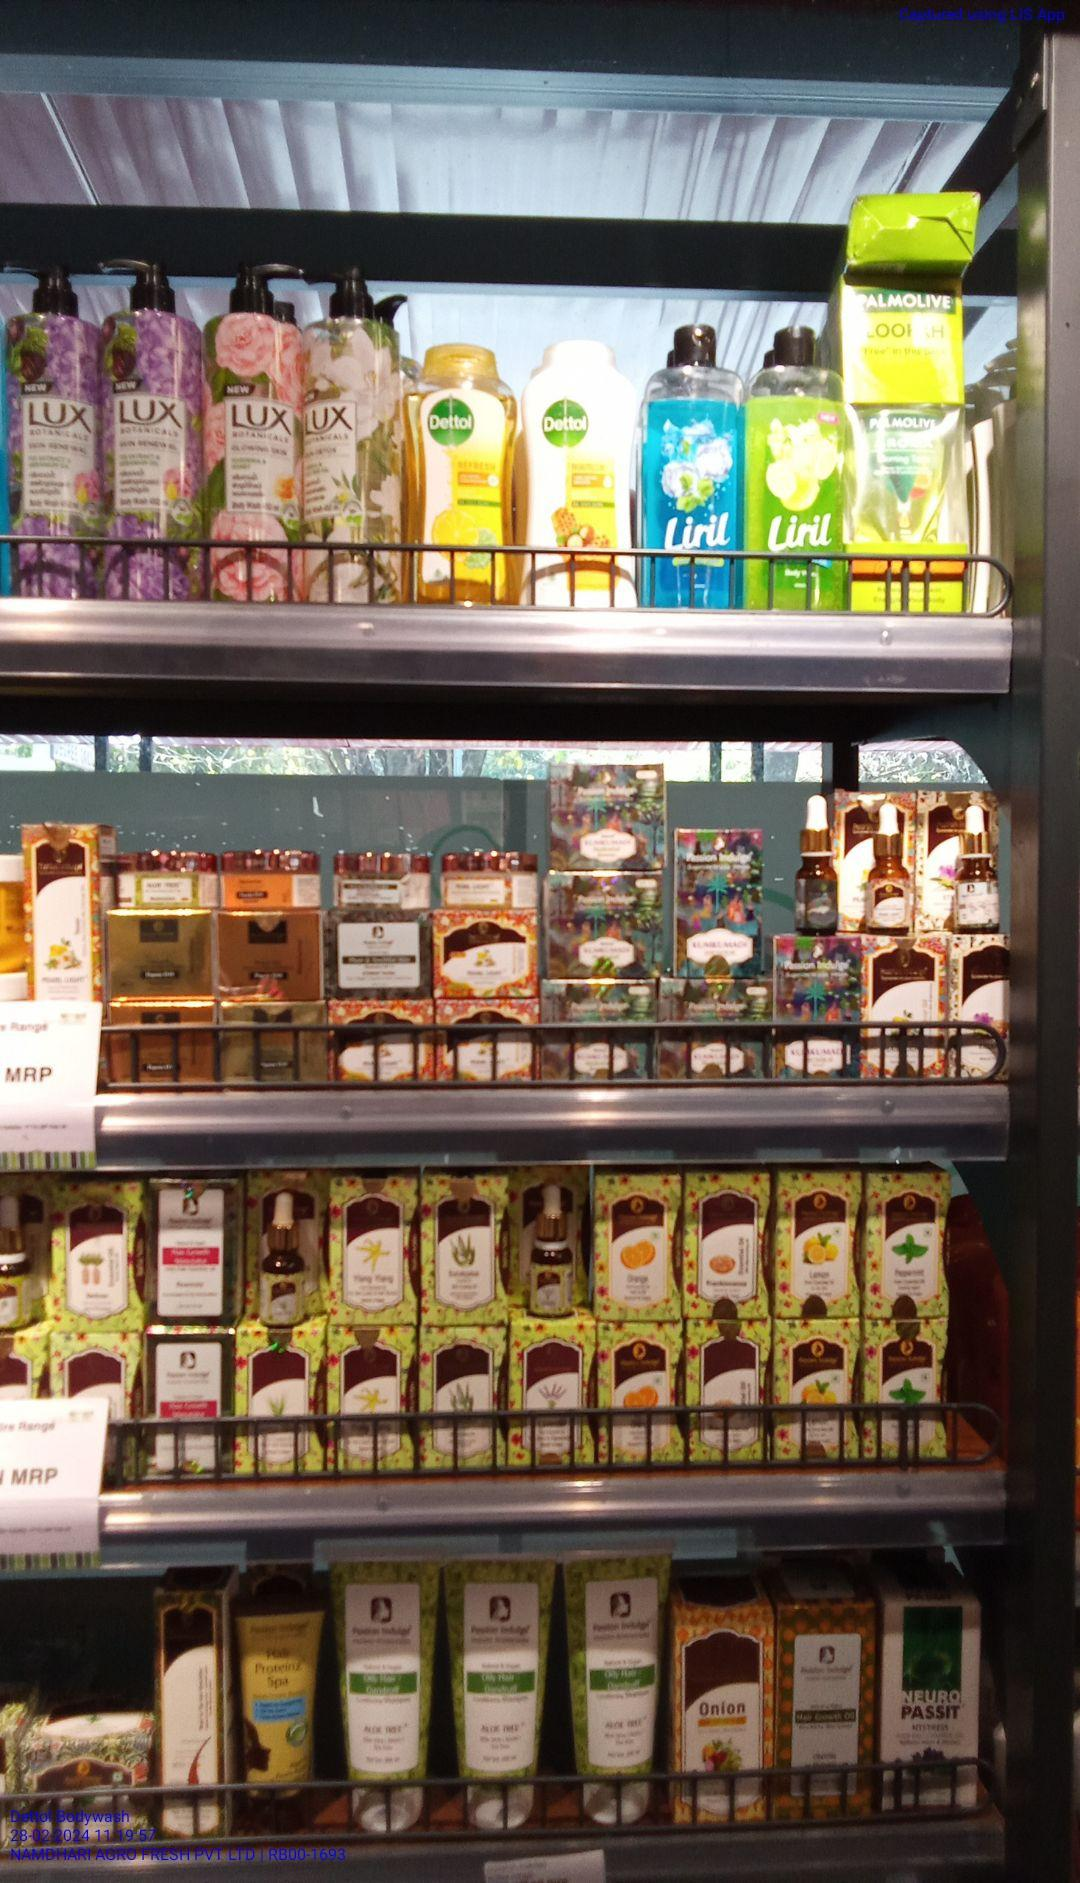Dettol_Bodywash_Refresh: (405, 341, 511, 607)
Dettol_Nourish_Body_Wash_250ML: (526, 338, 639, 617)
Liril_Cooling_Mint_Body_Wash_250ML: (648, 321, 746, 610)
Liril_Lime_and_Tea_Tree_Oil_Body_Wash_250ML: (750, 323, 845, 609)
